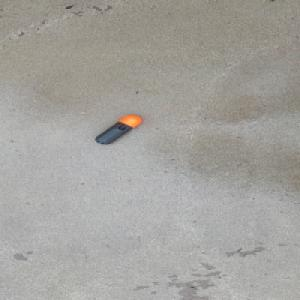PlasticPart: (94, 114, 142, 145)
